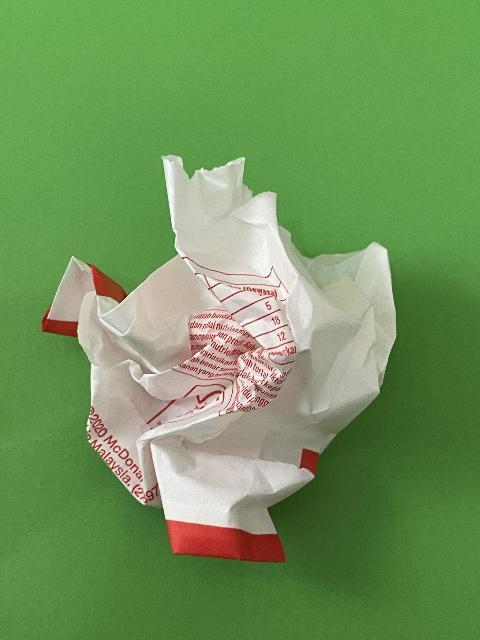paperbag: (39, 149, 398, 567)
